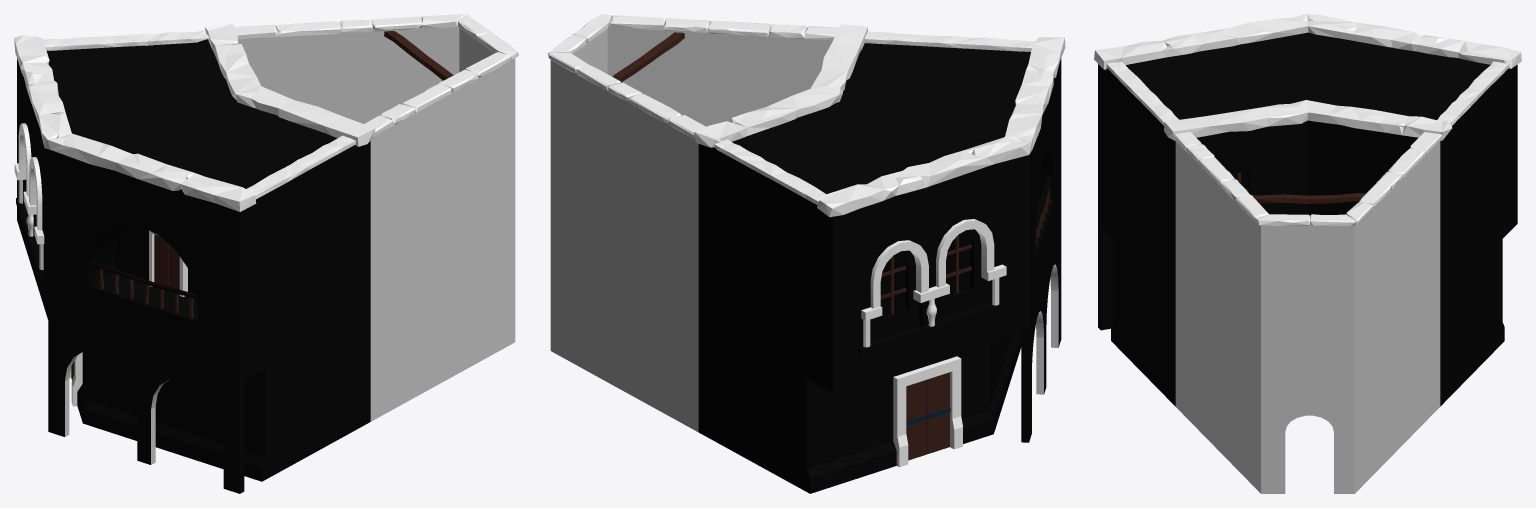
The model's file is civilian_house_09.FBX.
3 views of the same model, side by side, from view 1: azimuth 30°, elevation 25°; view 2: azimuth 150°, elevation 25°; view 3: azimuth 270°, elevation 25° (orthographic). The views are drawn at different scales.
Parts seen in each view (by area): view 1: civilian_house_09; view 2: civilian_house_09; view 3: civilian_house_09.
Boxes of the visible parts, <box> form: civilian_house_09: <box>14,14,518,493</box>; civilian_house_09: <box>547,14,1065,493</box>; civilian_house_09: <box>1094,14,1521,493</box>.
Size of the model in its own units: 1711 by 1080 by 1507.
